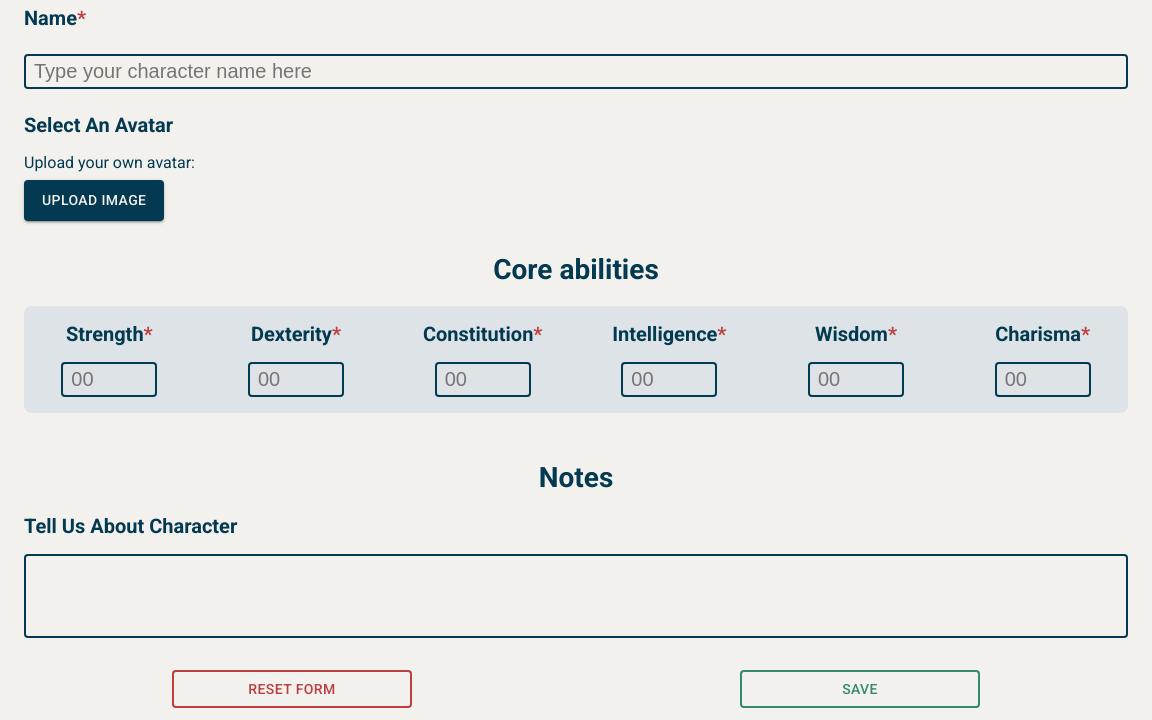
Test: CharacterForm › should show validation errors for required fields
This screenshot has width=1152, height=720.
(page scrolled)
Click the button "Save" at (860, 689), box [740,670,980,708]
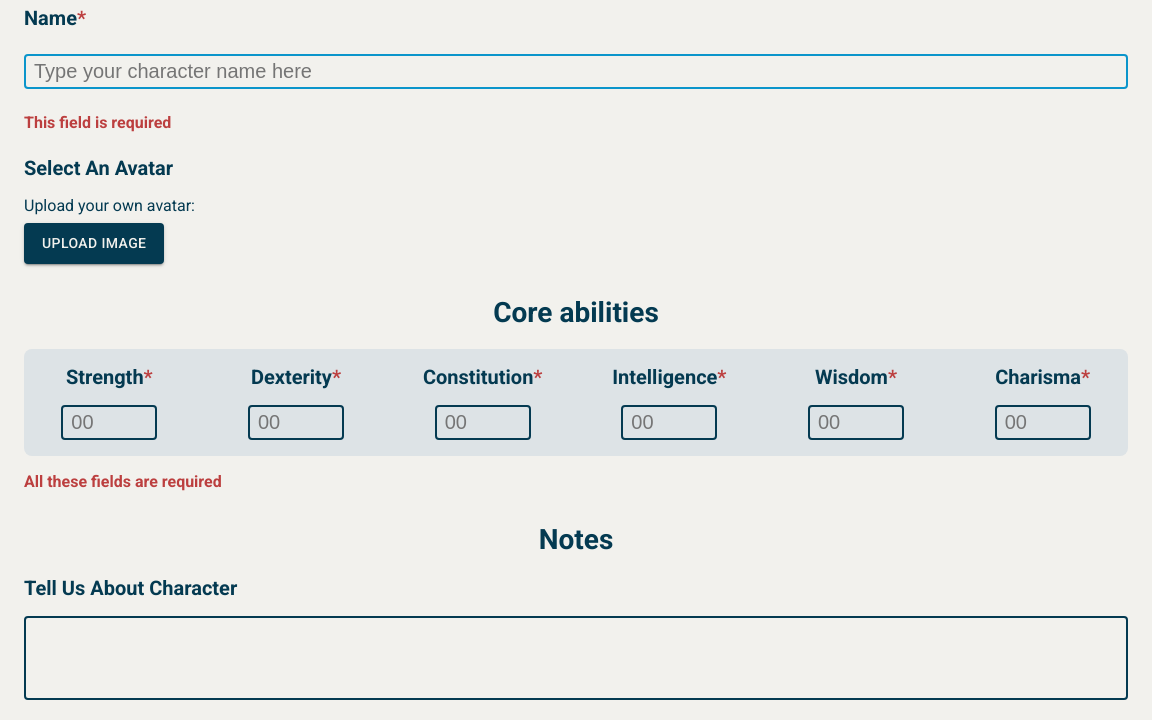
Check: the text "This field is required" is shown, box [24,113,171,132]
Check: the text "All these fields are required" is shown, box [24,472,222,490]
